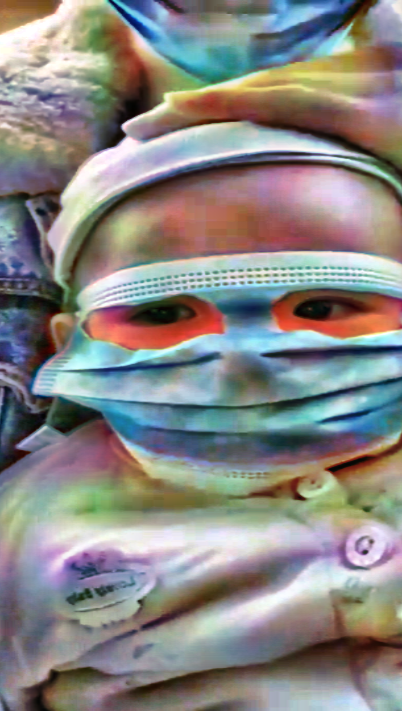mask_weared_incorrect: (37, 134, 402, 475)
